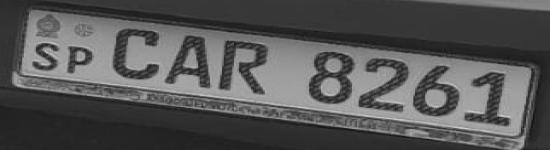1: (462, 68, 516, 130)
2: (358, 54, 412, 114)
6: (412, 58, 463, 118)
8: (302, 44, 356, 110)
A: (166, 30, 218, 94)
C: (105, 21, 164, 83)
P: (68, 41, 94, 76)
R: (215, 36, 276, 99)
S: (25, 39, 68, 72)
